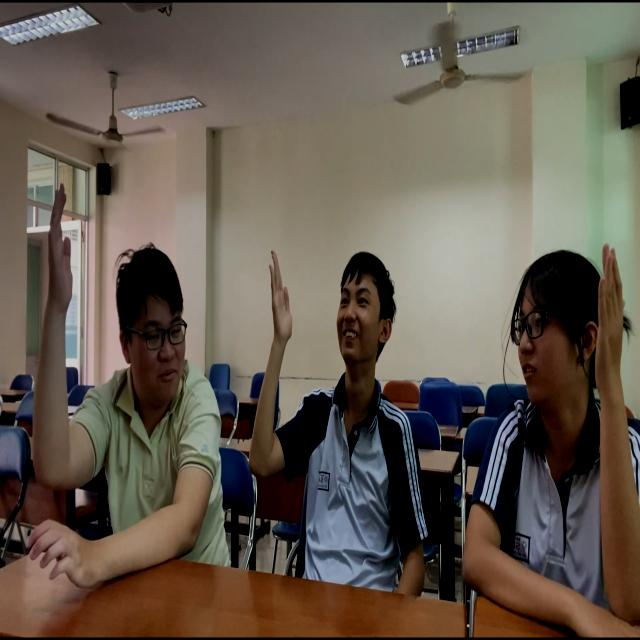raise_hand: (458, 211, 640, 640), (251, 235, 428, 617)
